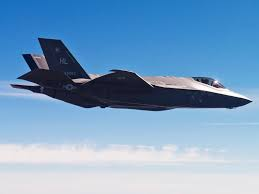fighter: (9, 34, 254, 113)
